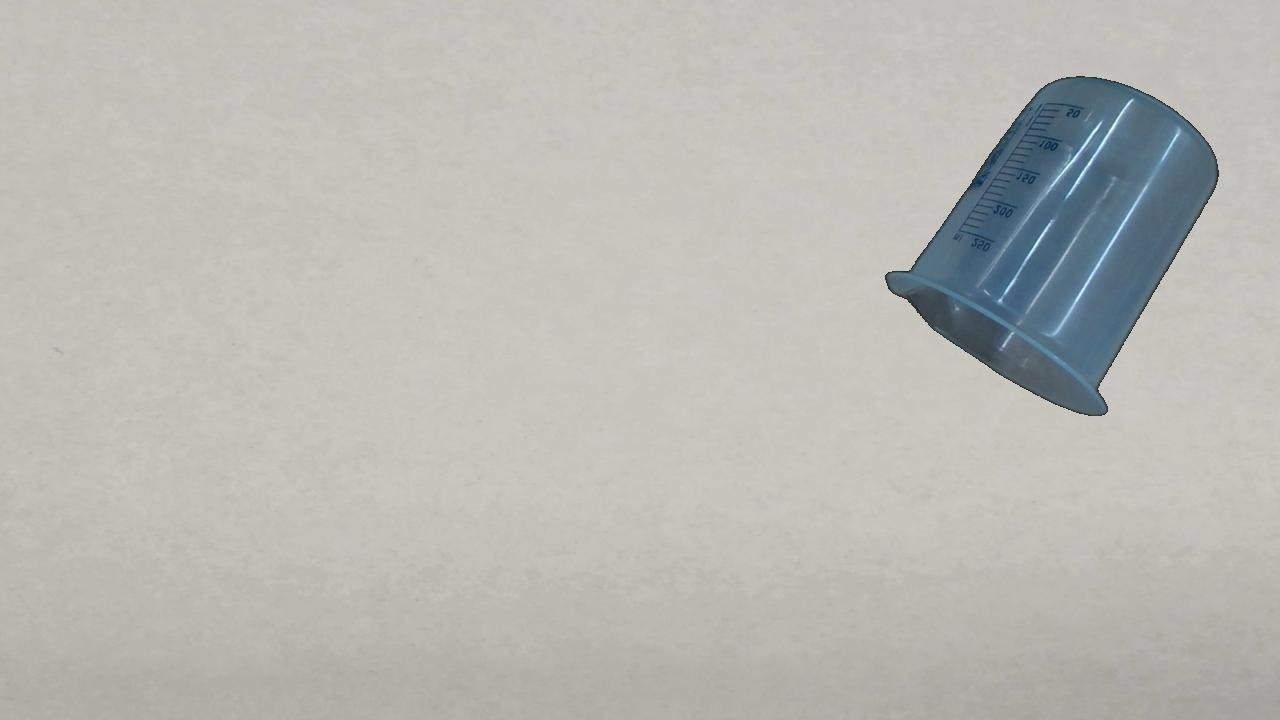cup: (883, 74, 1220, 417)
